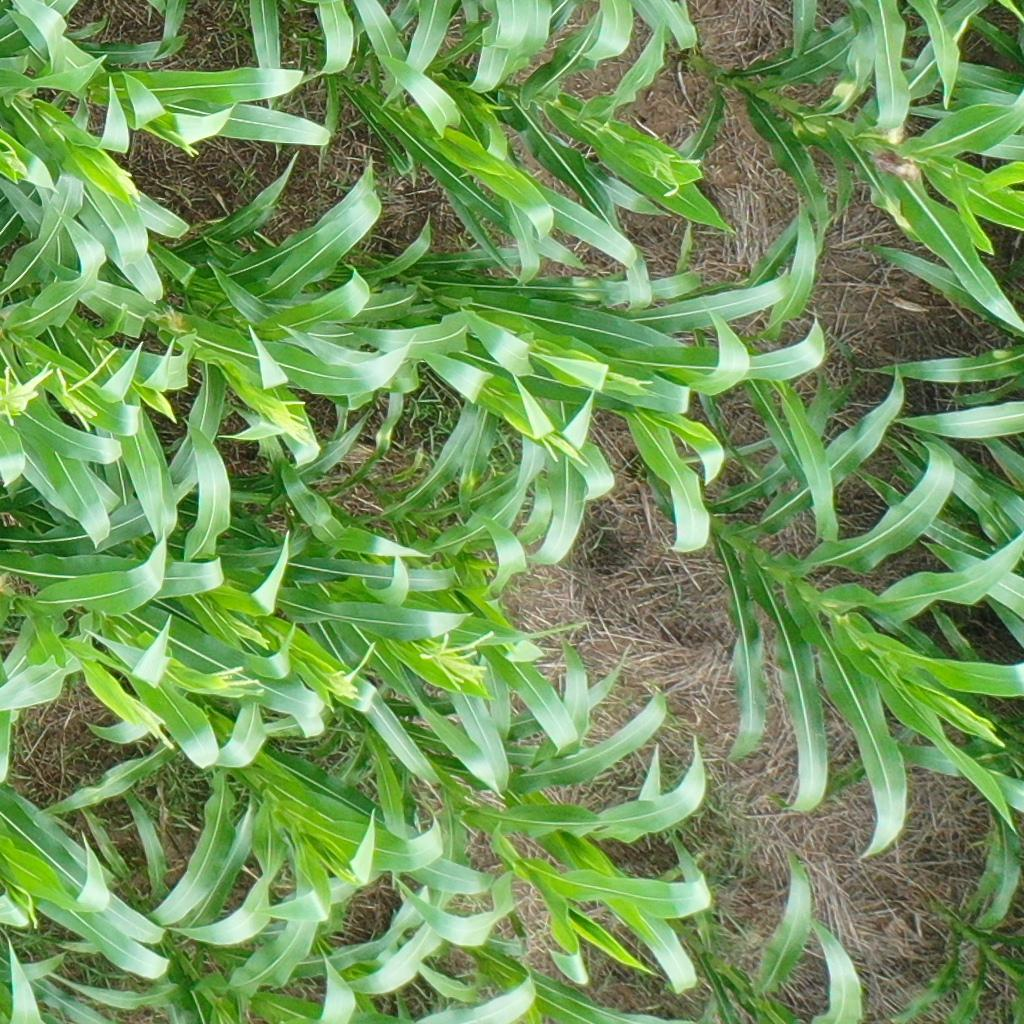Tassel: (58, 348, 118, 433), (421, 630, 495, 692), (1, 352, 54, 429), (640, 139, 703, 198), (250, 392, 314, 450), (330, 638, 376, 708), (951, 695, 1008, 749), (103, 141, 144, 203), (206, 664, 270, 701), (535, 431, 593, 470), (134, 697, 175, 749), (605, 369, 659, 398), (169, 126, 200, 158)
